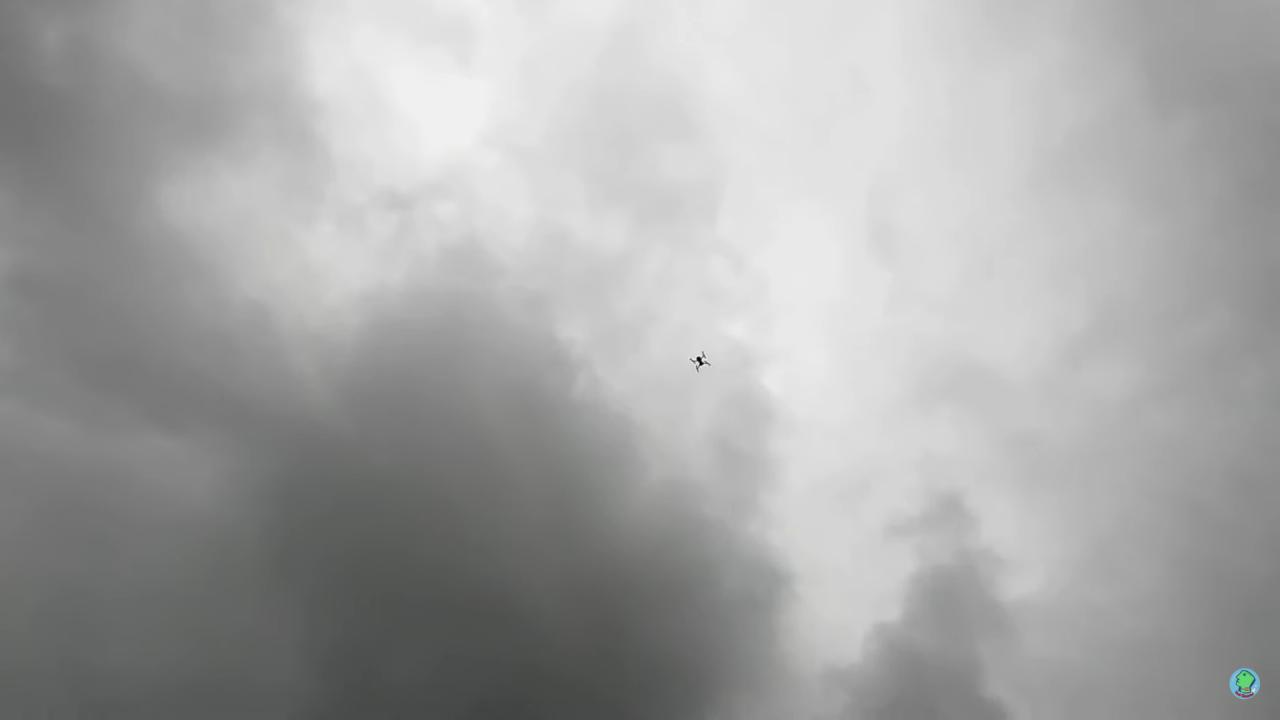Drone: (682, 343, 718, 378)
